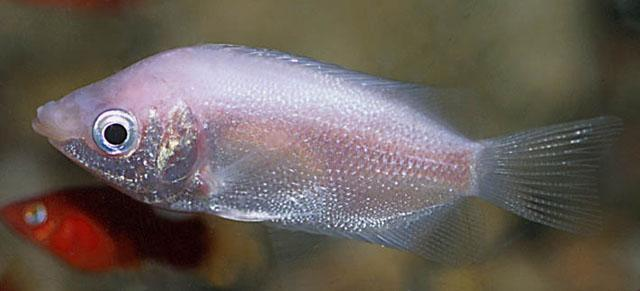Mulut: (9, 90, 72, 160)
Sirip Anal: (265, 187, 497, 279)
Sirip Dada: (176, 128, 300, 196)
Sirip Ekor: (448, 100, 626, 248)
Sirip Perut: (208, 195, 318, 236)
Sirip Punggung: (197, 40, 468, 136)
